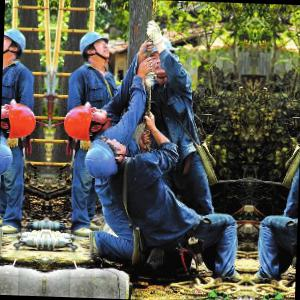helmet: (83, 137, 133, 180), (59, 104, 114, 141), (138, 33, 183, 78), (2, 102, 43, 139), (76, 30, 113, 65), (4, 27, 30, 63), (1, 134, 16, 177)
